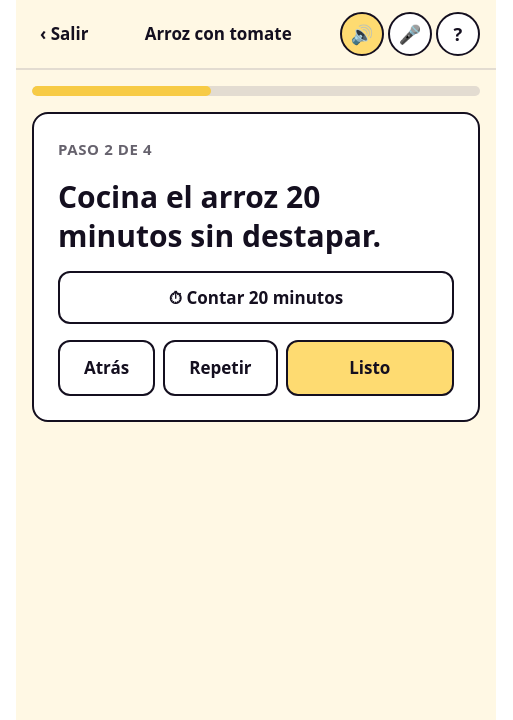
Test case: Modo cocinar (pedido del profesor: la receta como tareas, con voz) › cuando se acaba el tiempo, «Listo» quita el aviso y pasa al siguiente paso
Check: the heading "Cocina el arroz 20 minutos sin destapar." is shown, box [58, 176, 381, 256]
Click the button "⏱ Contar 20 minutos" at (256, 297), box [58, 270, 454, 324]
Wait 1201000 ms
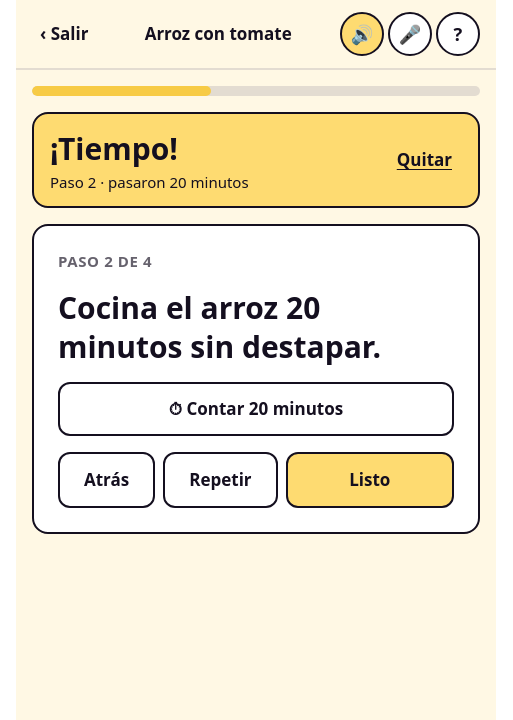
Check: the text "¡Tiempo!" is shown, box [50, 128, 178, 169]
Click the button "Listo" at (370, 480), box [286, 452, 454, 508]
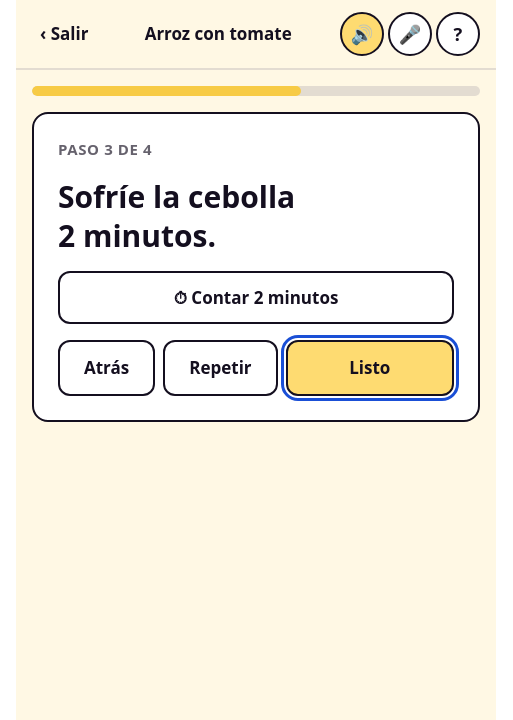
Check: the heading "Sofríe la cebolla 2 minutos." is shown, box [58, 176, 295, 256]
Check: the message "Temporizador" is gone
Check: the message "¡Tiempo! Paso 2 · pasaron 20 minutos Quitar" is gone
